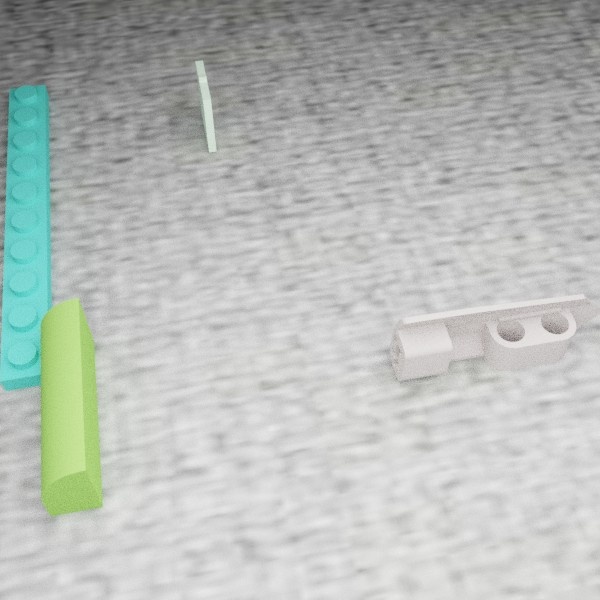lego: (390, 294, 599, 381), (0, 84, 52, 391), (40, 297, 103, 516), (195, 60, 216, 152)
